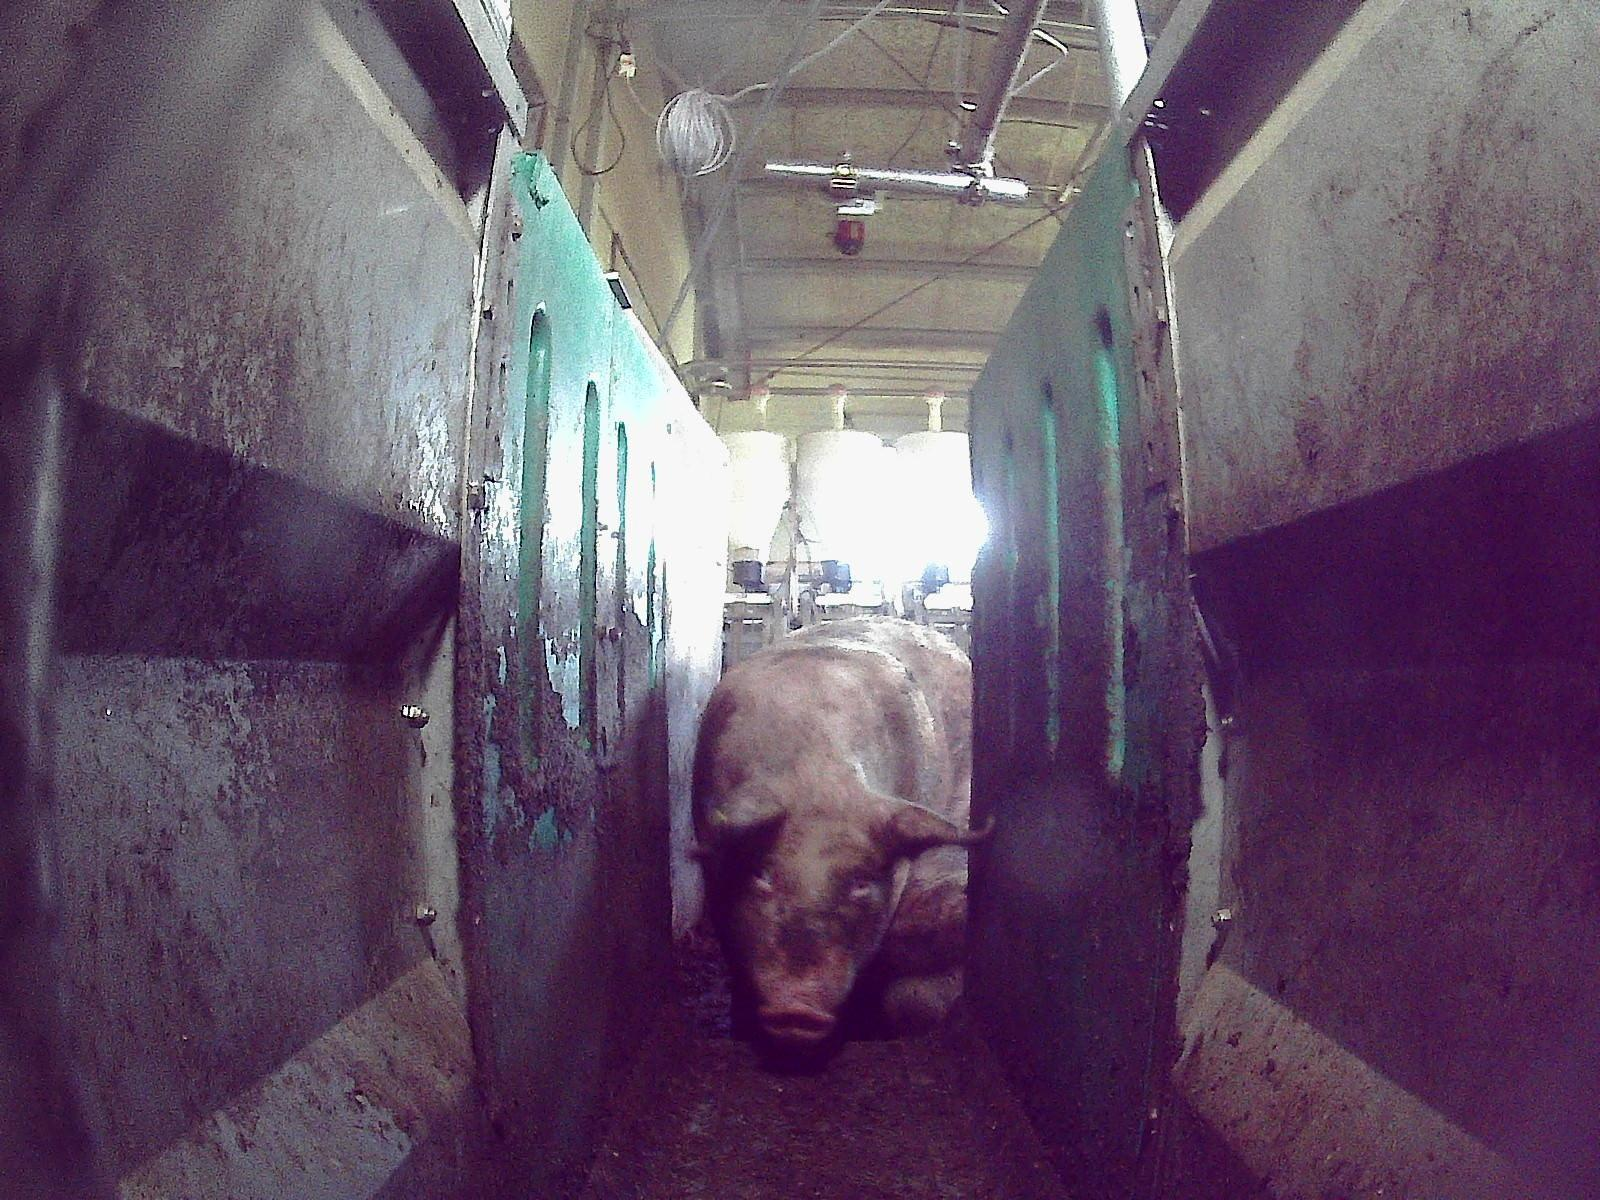Face: (729, 788, 899, 1041)
